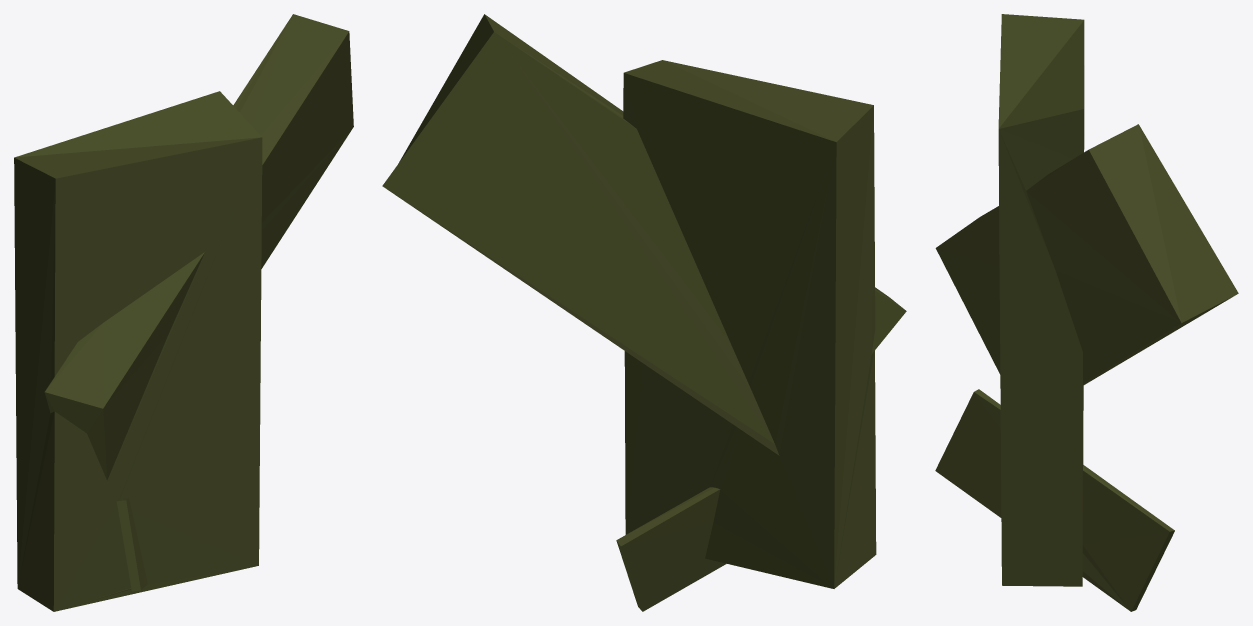
The picture shows the model from 3 angles, left to right: view 1: azimuth 30°, elevation 25°; view 2: azimuth 150°, elevation 25°; view 3: azimuth 270°, elevation 25°; orthographic projection. The views are drawn at different scales.
Visible parts, largest first — view 1: 207_Cube.858; view 2: 207_Cube.858; view 3: 207_Cube.858.
Part boxes in pixels (x1,y1,x2,y2): 207_Cube.858: [14, 14, 353, 611]; 207_Cube.858: [382, 14, 906, 611]; 207_Cube.858: [935, 14, 1238, 611].
Size of the model in its own units: 11.61 by 14.42 by 7.09.
